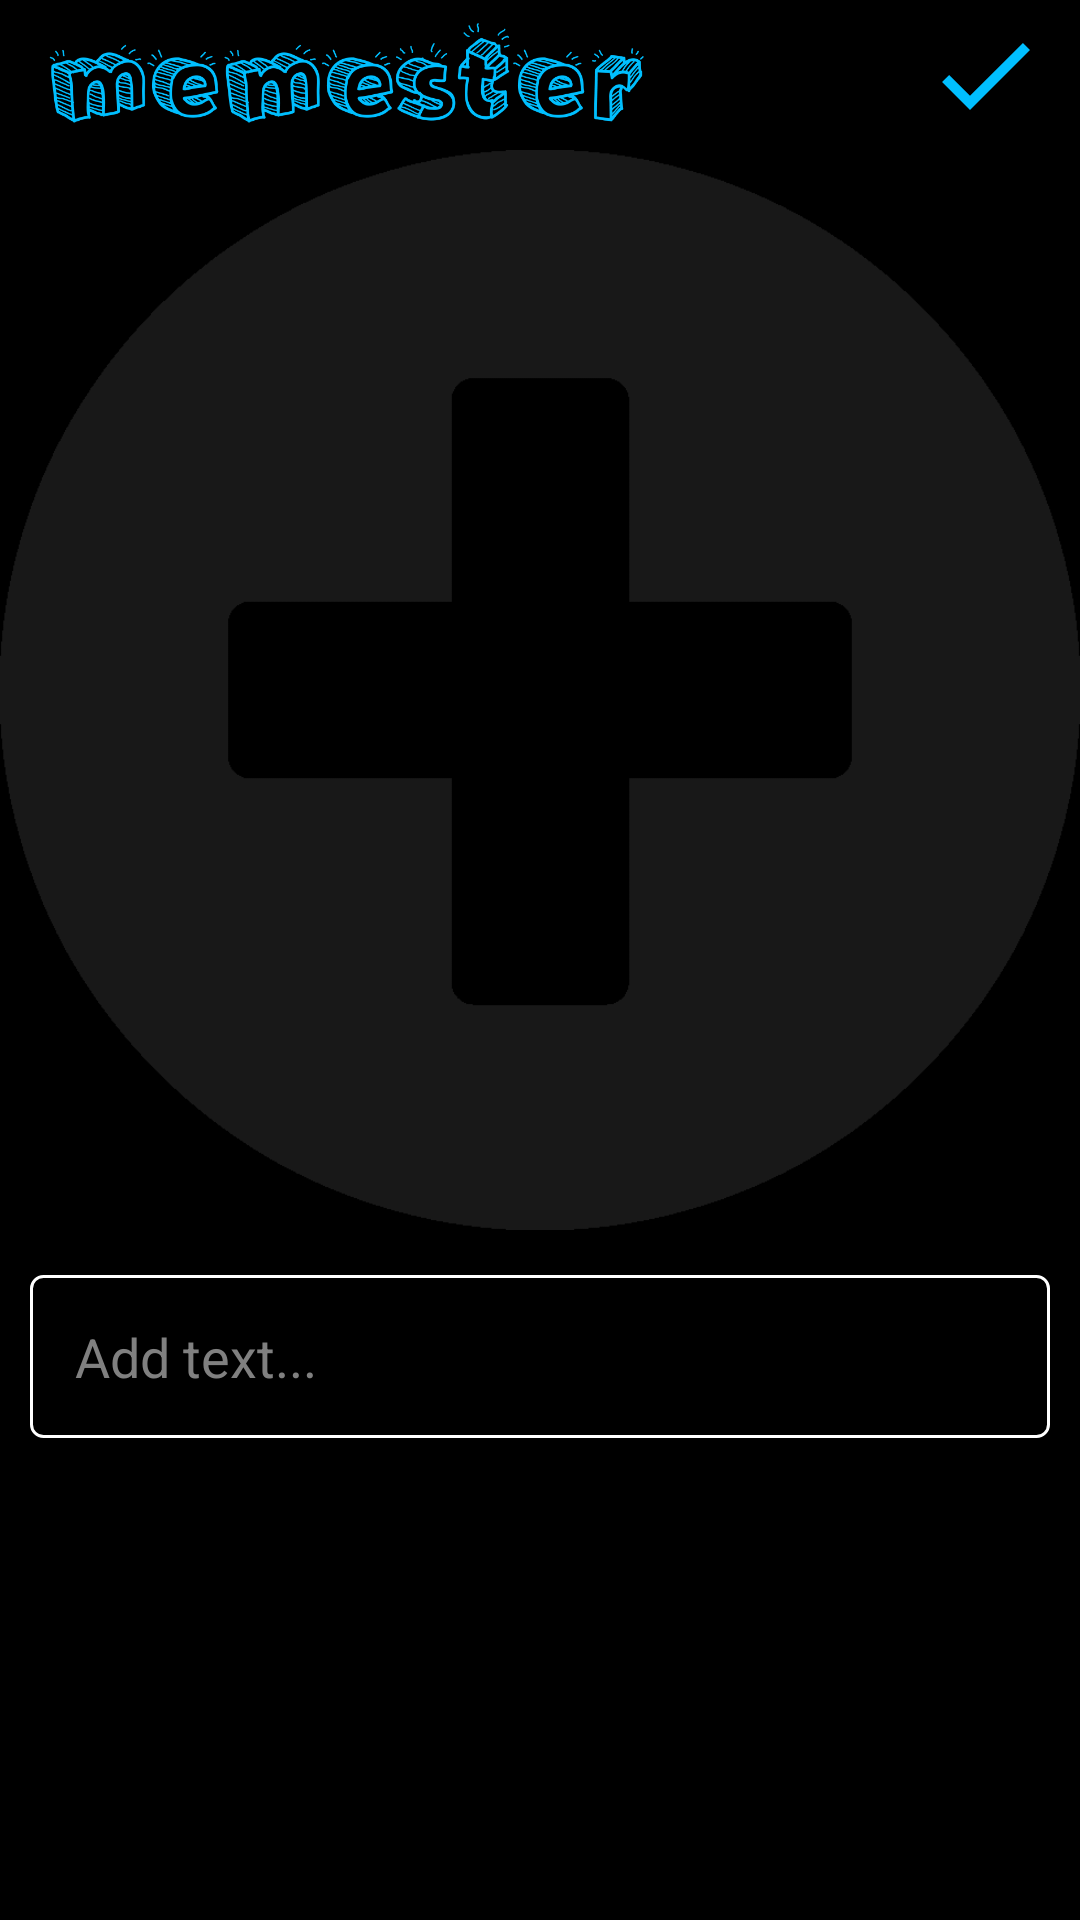

Icon bounding boxes for this 1080px×1920px phone screenshot, format (x1, y1, x2, y2):
check: (942, 43, 1030, 110)
